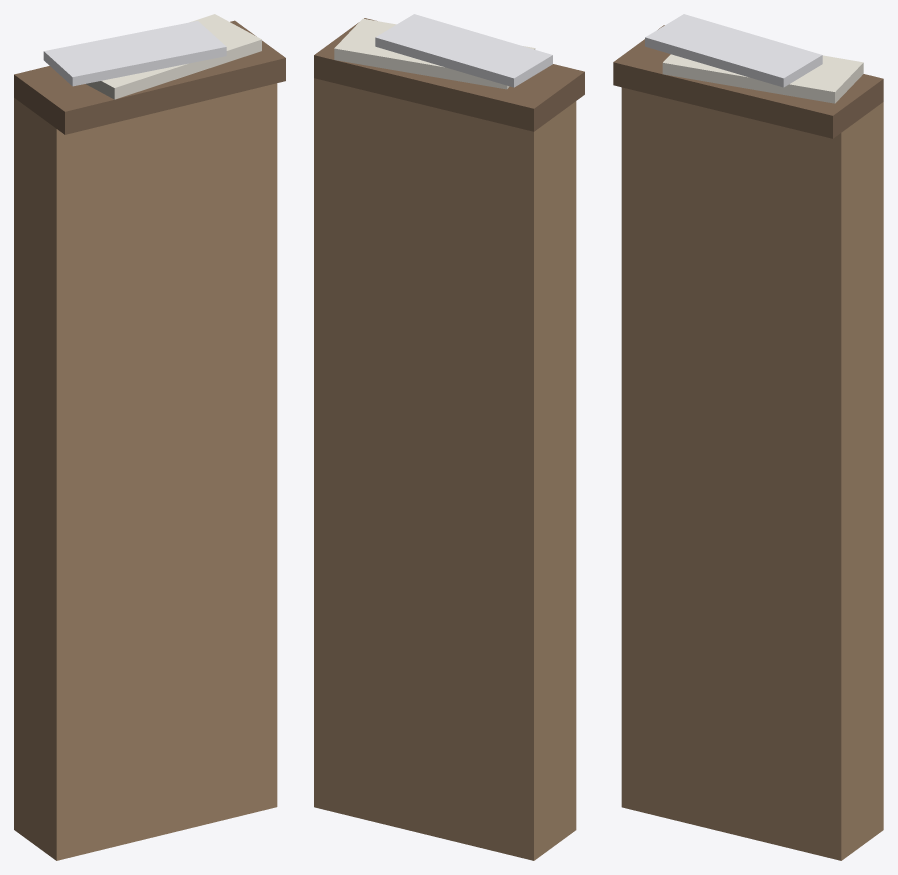
The model's file is mail_slot.glb.
3 renders of one model, left to right at view 1: azimuth 30°, elevation 25°; view 2: azimuth 150°, elevation 25°; view 3: azimuth 330°, elevation 25°, orthographic.
Parts seen in each view (by area): view 1: mail_slot; view 2: mail_slot; view 3: mail_slot.
Part boxes in pixels (left/top/right/bottom): mail_slot: left=14, top=14, right=285, bottom=860; mail_slot: left=314, top=14, right=584, bottom=860; mail_slot: left=613, top=14, right=883, bottom=860.
Size of the model in its own units: 0.3 by 1.01 by 0.12.
